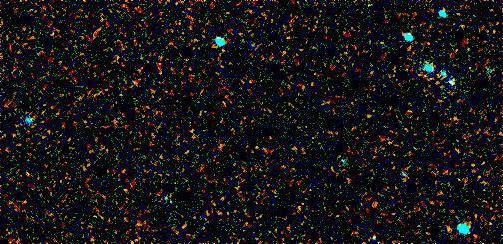star: (435, 214, 465, 244)
